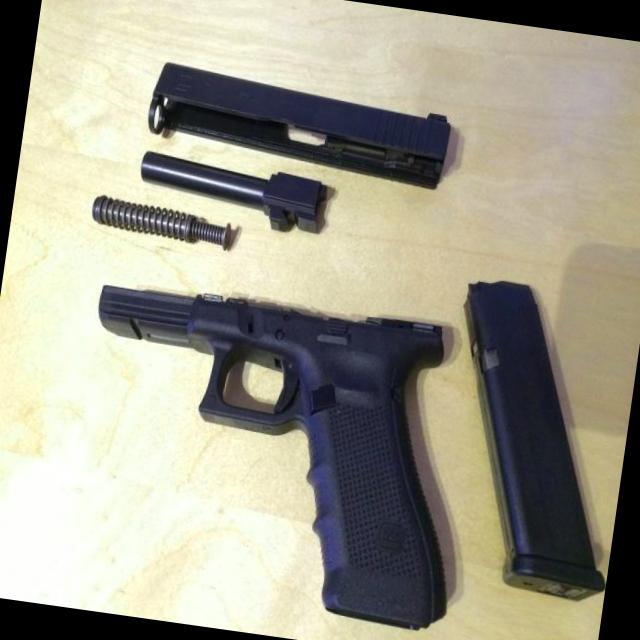Gun: (99, 288, 447, 629)
